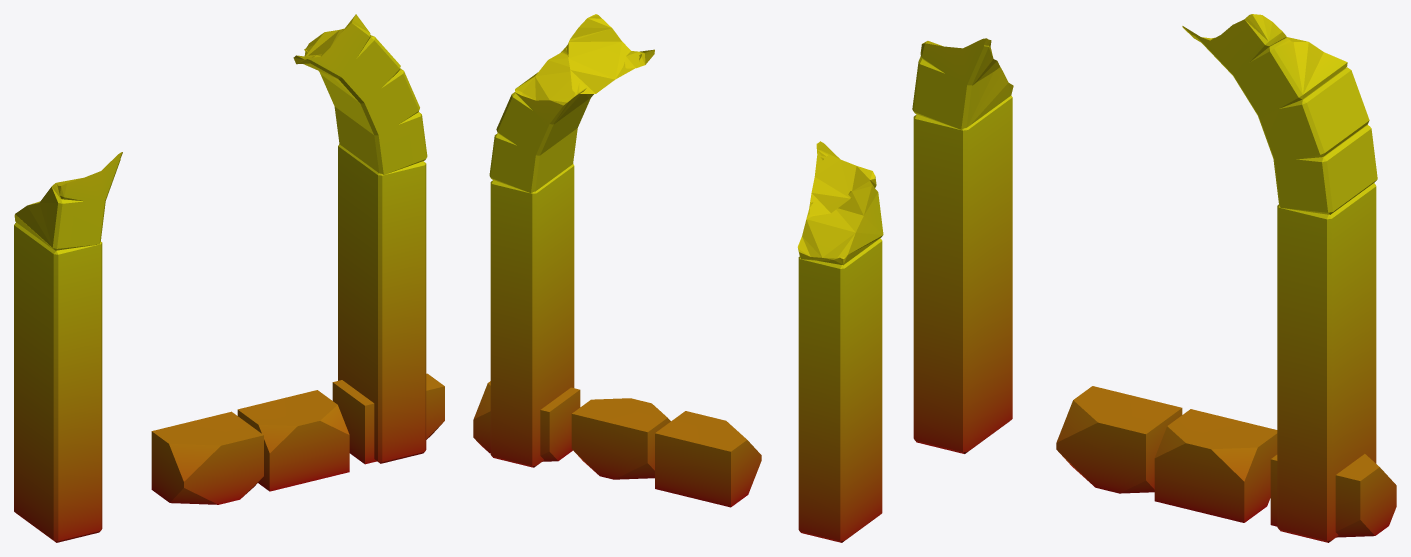
The model's file is arch_broken.glb.
3 views of the same model, side by side, from view 1: azimuth 30°, elevation 25°; view 2: azimuth 150°, elevation 25°; view 3: azimuth 330°, elevation 25° (orthographic). The views are drawn at different scales.
Parts seen in each view (by area): view 1: arch_broken; view 2: arch_broken; view 3: arch_broken.
Part boxes in pixels (<box>): arch_broken: <box>14,14,444,542</box>; arch_broken: <box>473,14,883,542</box>; arch_broken: <box>912,14,1396,542</box>.
Size of what is drawn, in the model's own units: 4.25 by 4.66 by 0.8.
